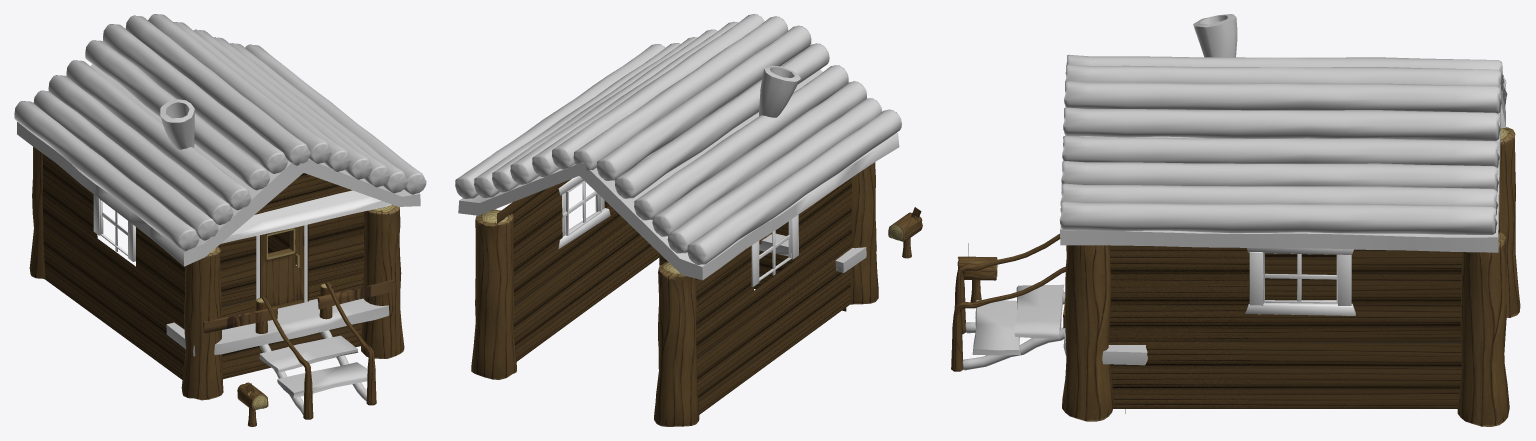
File: cabin.fbx
3 views of the same model, side by side, from view 1: azimuth 30°, elevation 25°; view 2: azimuth 150°, elevation 25°; view 3: azimuth 270°, elevation 25° (orthographic). The views are drawn at different scales.
Visible parts, largest first — view 1: logs, wall1, columns, wall_front, roof_base, stoop, roofbase, cabin_exterior_door, step_1, step_2, chimney, stoop_rail2 (+7 smaller); view 2: logs, wall1, columns, wall2, roof_base, chimney, stoop, wall_front, polySurface103.001, window_ledge; view 3: logs, wall2, columns, roof_base, wall1, step_1, step_2, chimney, rail_left, window_ledge, rail_right, stoop (+5 smaller).
Boxes of the visible parts, x1,y1,x2,y2 form: logs: [14, 14, 426, 250]; wall1: [42, 154, 185, 379]; columns: [29, 147, 404, 400]; wall_front: [218, 173, 364, 379]; roof_base: [17, 57, 420, 266]; stoop: [166, 298, 389, 356]; roofbase: [221, 190, 391, 243]; cabin_exterior_door: [260, 225, 303, 306]; step_1: [259, 335, 357, 372]; step_2: [277, 362, 375, 397]; chimney: [160, 99, 194, 149]; stoop_rail2: [317, 279, 393, 309]; logs: [455, 14, 901, 264]; wall1: [695, 177, 852, 414]; columns: [471, 162, 878, 426]; wall2: [497, 179, 659, 361]; roof_base: [458, 52, 899, 280]; chimney: [759, 65, 800, 117]; stoop: [759, 233, 876, 273]; wall_front: [659, 221, 846, 311]; polySurface103.001: [888, 212, 922, 241]; window_ledge: [558, 208, 610, 248]; logs: [1059, 54, 1507, 234]; wall2: [1108, 219, 1499, 408]; columns: [1062, 127, 1520, 426]; roof_base: [1060, 85, 1505, 252]; wall1: [1265, 253, 1336, 300]; step_1: [1014, 284, 1064, 338]; step_2: [972, 300, 1020, 355]; chimney: [1193, 14, 1237, 57]; rail_left: [951, 266, 1065, 371]; window_ledge: [1245, 302, 1355, 315]; rail_right: [954, 233, 1060, 334]; stoop: [1063, 328, 1147, 365].
Bounding box in the file's own units: 377 × 224 × 238.
